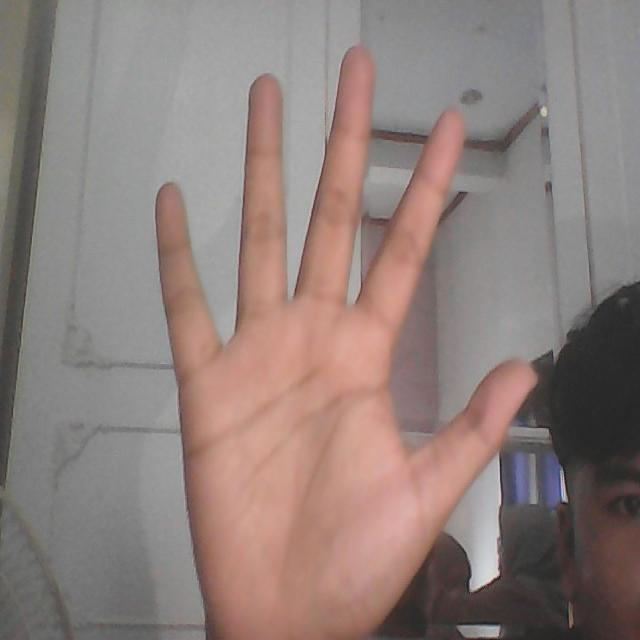hand: (147, 37, 544, 640)
